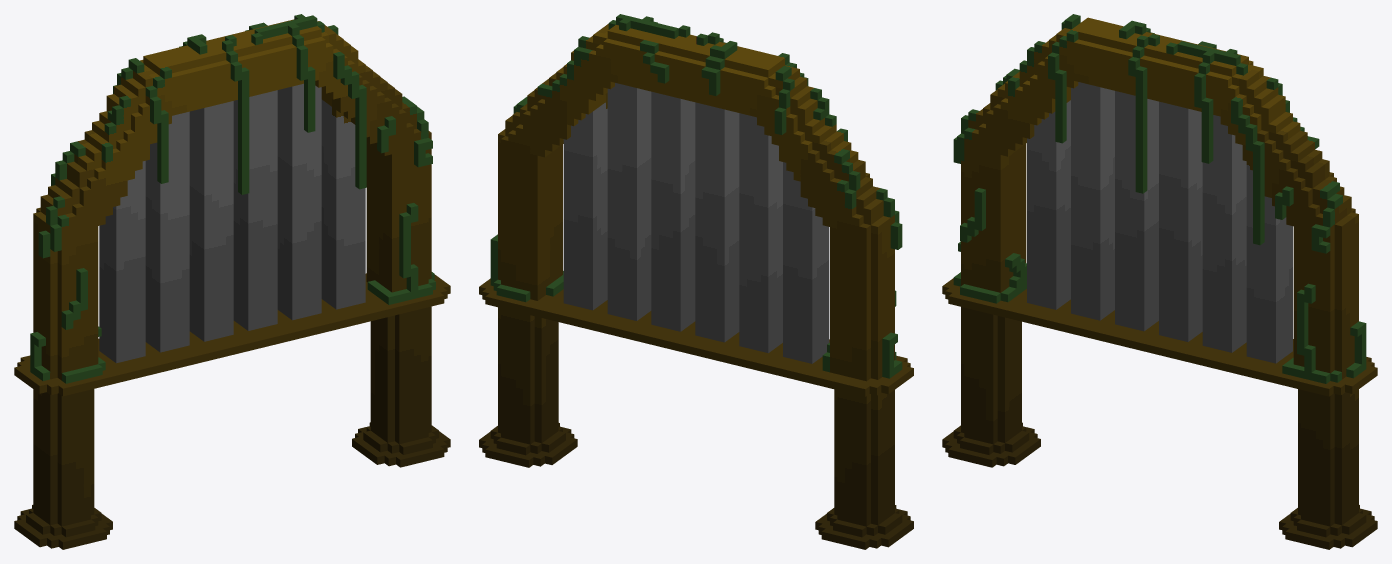
File: door_1.glb
3 views of the same model, side by side, from view 1: azimuth 30°, elevation 25°; view 2: azimuth 150°, elevation 25°; view 3: azimuth 330°, elevation 25° (orthographic).
Visible parts, largest first — view 1: door1; view 2: door1; view 3: door1.
Boxes of the visible parts, x1,y1,x2,y2 form: door1: (14,14,450,549); door1: (479,14,913,549); door1: (942,14,1377,549).
Bounding box in the file's own units: 5.6 × 5.9 × 1.
Materials: 1 (1 with a texture image).
